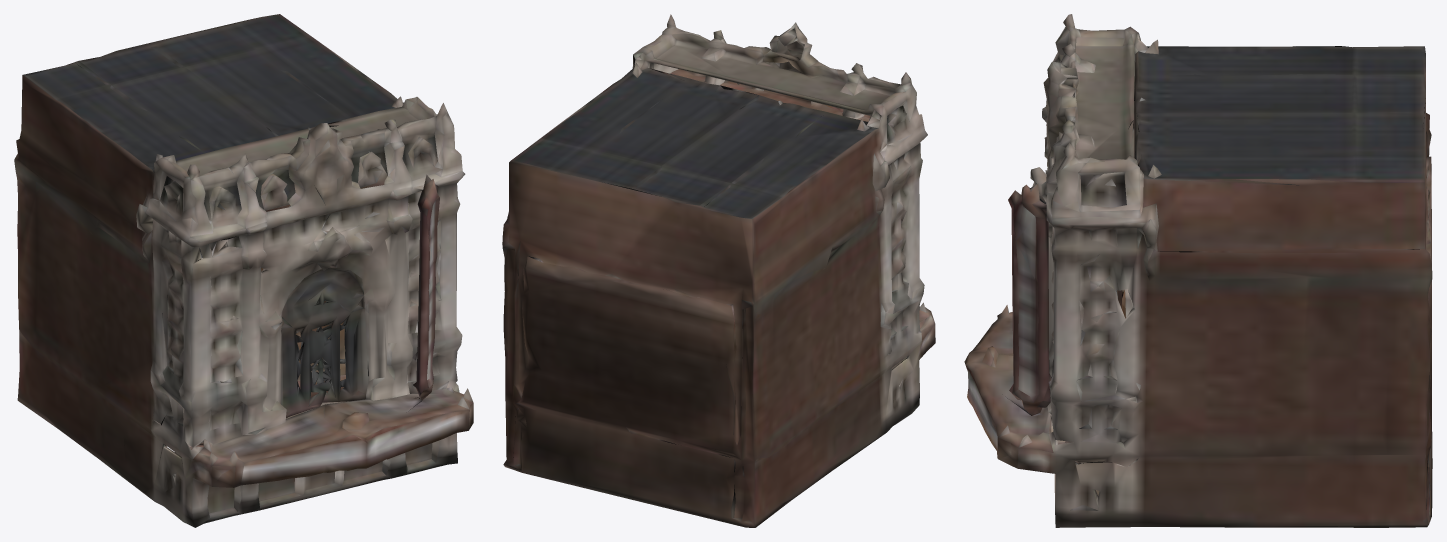
Rendered from chicago_theatre.glb.
3 views of the same model, side by side, from view 1: azimuth 30°, elevation 25°; view 2: azimuth 150°, elevation 25°; view 3: azimuth 270°, elevation 25° (orthographic). The views are drawn at different scales.
Parts seen in each view (by area): view 1: chicago_theatre; view 2: chicago_theatre; view 3: chicago_theatre.
Part boxes in pixels (x1,y1,x2,y2): chicago_theatre: [14, 14, 473, 527]; chicago_theatre: [502, 14, 935, 527]; chicago_theatre: [964, 14, 1432, 527].
Bounding box in the file's own units: 20.04 × 25.14 × 26.79.
1 material, 1 textured.
